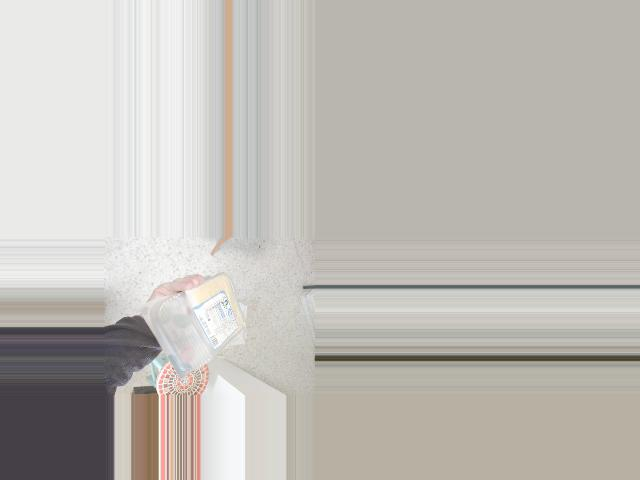cheese: (147, 286, 254, 379)
